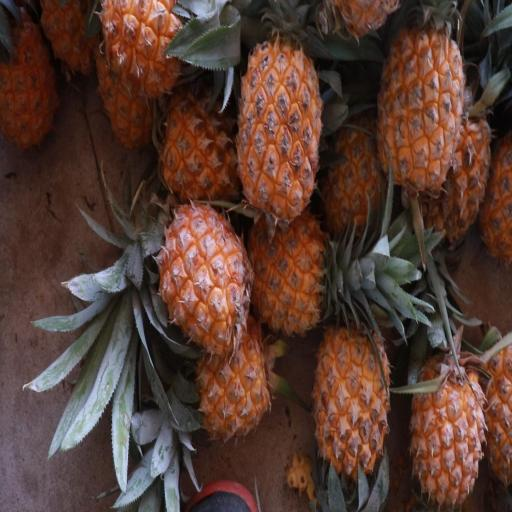Pineapple - v8 v1: (234, 30, 328, 228), (147, 196, 258, 361), (310, 298, 394, 510), (367, 6, 461, 188), (246, 196, 356, 344), (406, 327, 488, 511), (410, 80, 489, 254), (188, 298, 274, 449), (90, 0, 201, 106), (0, 0, 59, 159)
